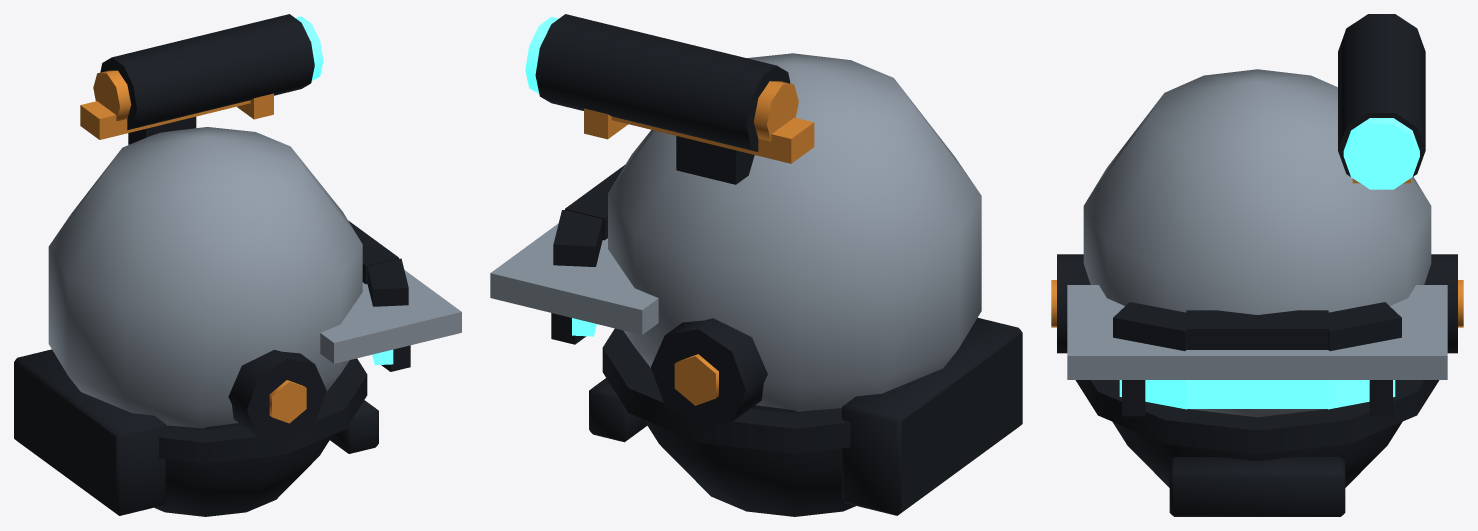
Rendered from casco_francotirador.glb.
3 renders of one model, left to right at view 1: azimuth 30°, elevation 25°; view 2: azimuth 150°, elevation 25°; view 3: azimuth 270°, elevation 25°, orthographic. The views are drawn at different scales.
Visible parts, largest first — view 1: casco_francotirador; view 2: casco_francotirador; view 3: casco_francotirador.
Boxes of the visible parts, x1,y1,x2,y2 form: casco_francotirador: [14, 14, 461, 516]; casco_francotirador: [490, 14, 1022, 516]; casco_francotirador: [1051, 14, 1463, 516].
Bounding box in the file's own units: 0.282 × 0.3525 × 0.282.
